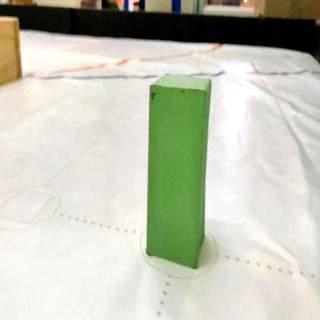greenbox: (145, 71, 212, 272)
